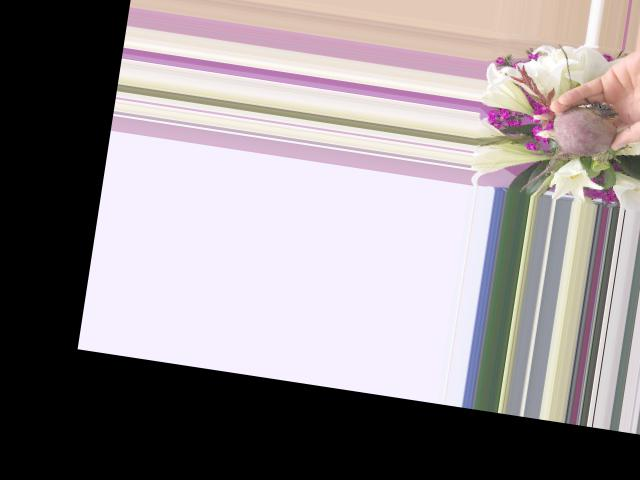beet: (519, 92, 620, 203)
